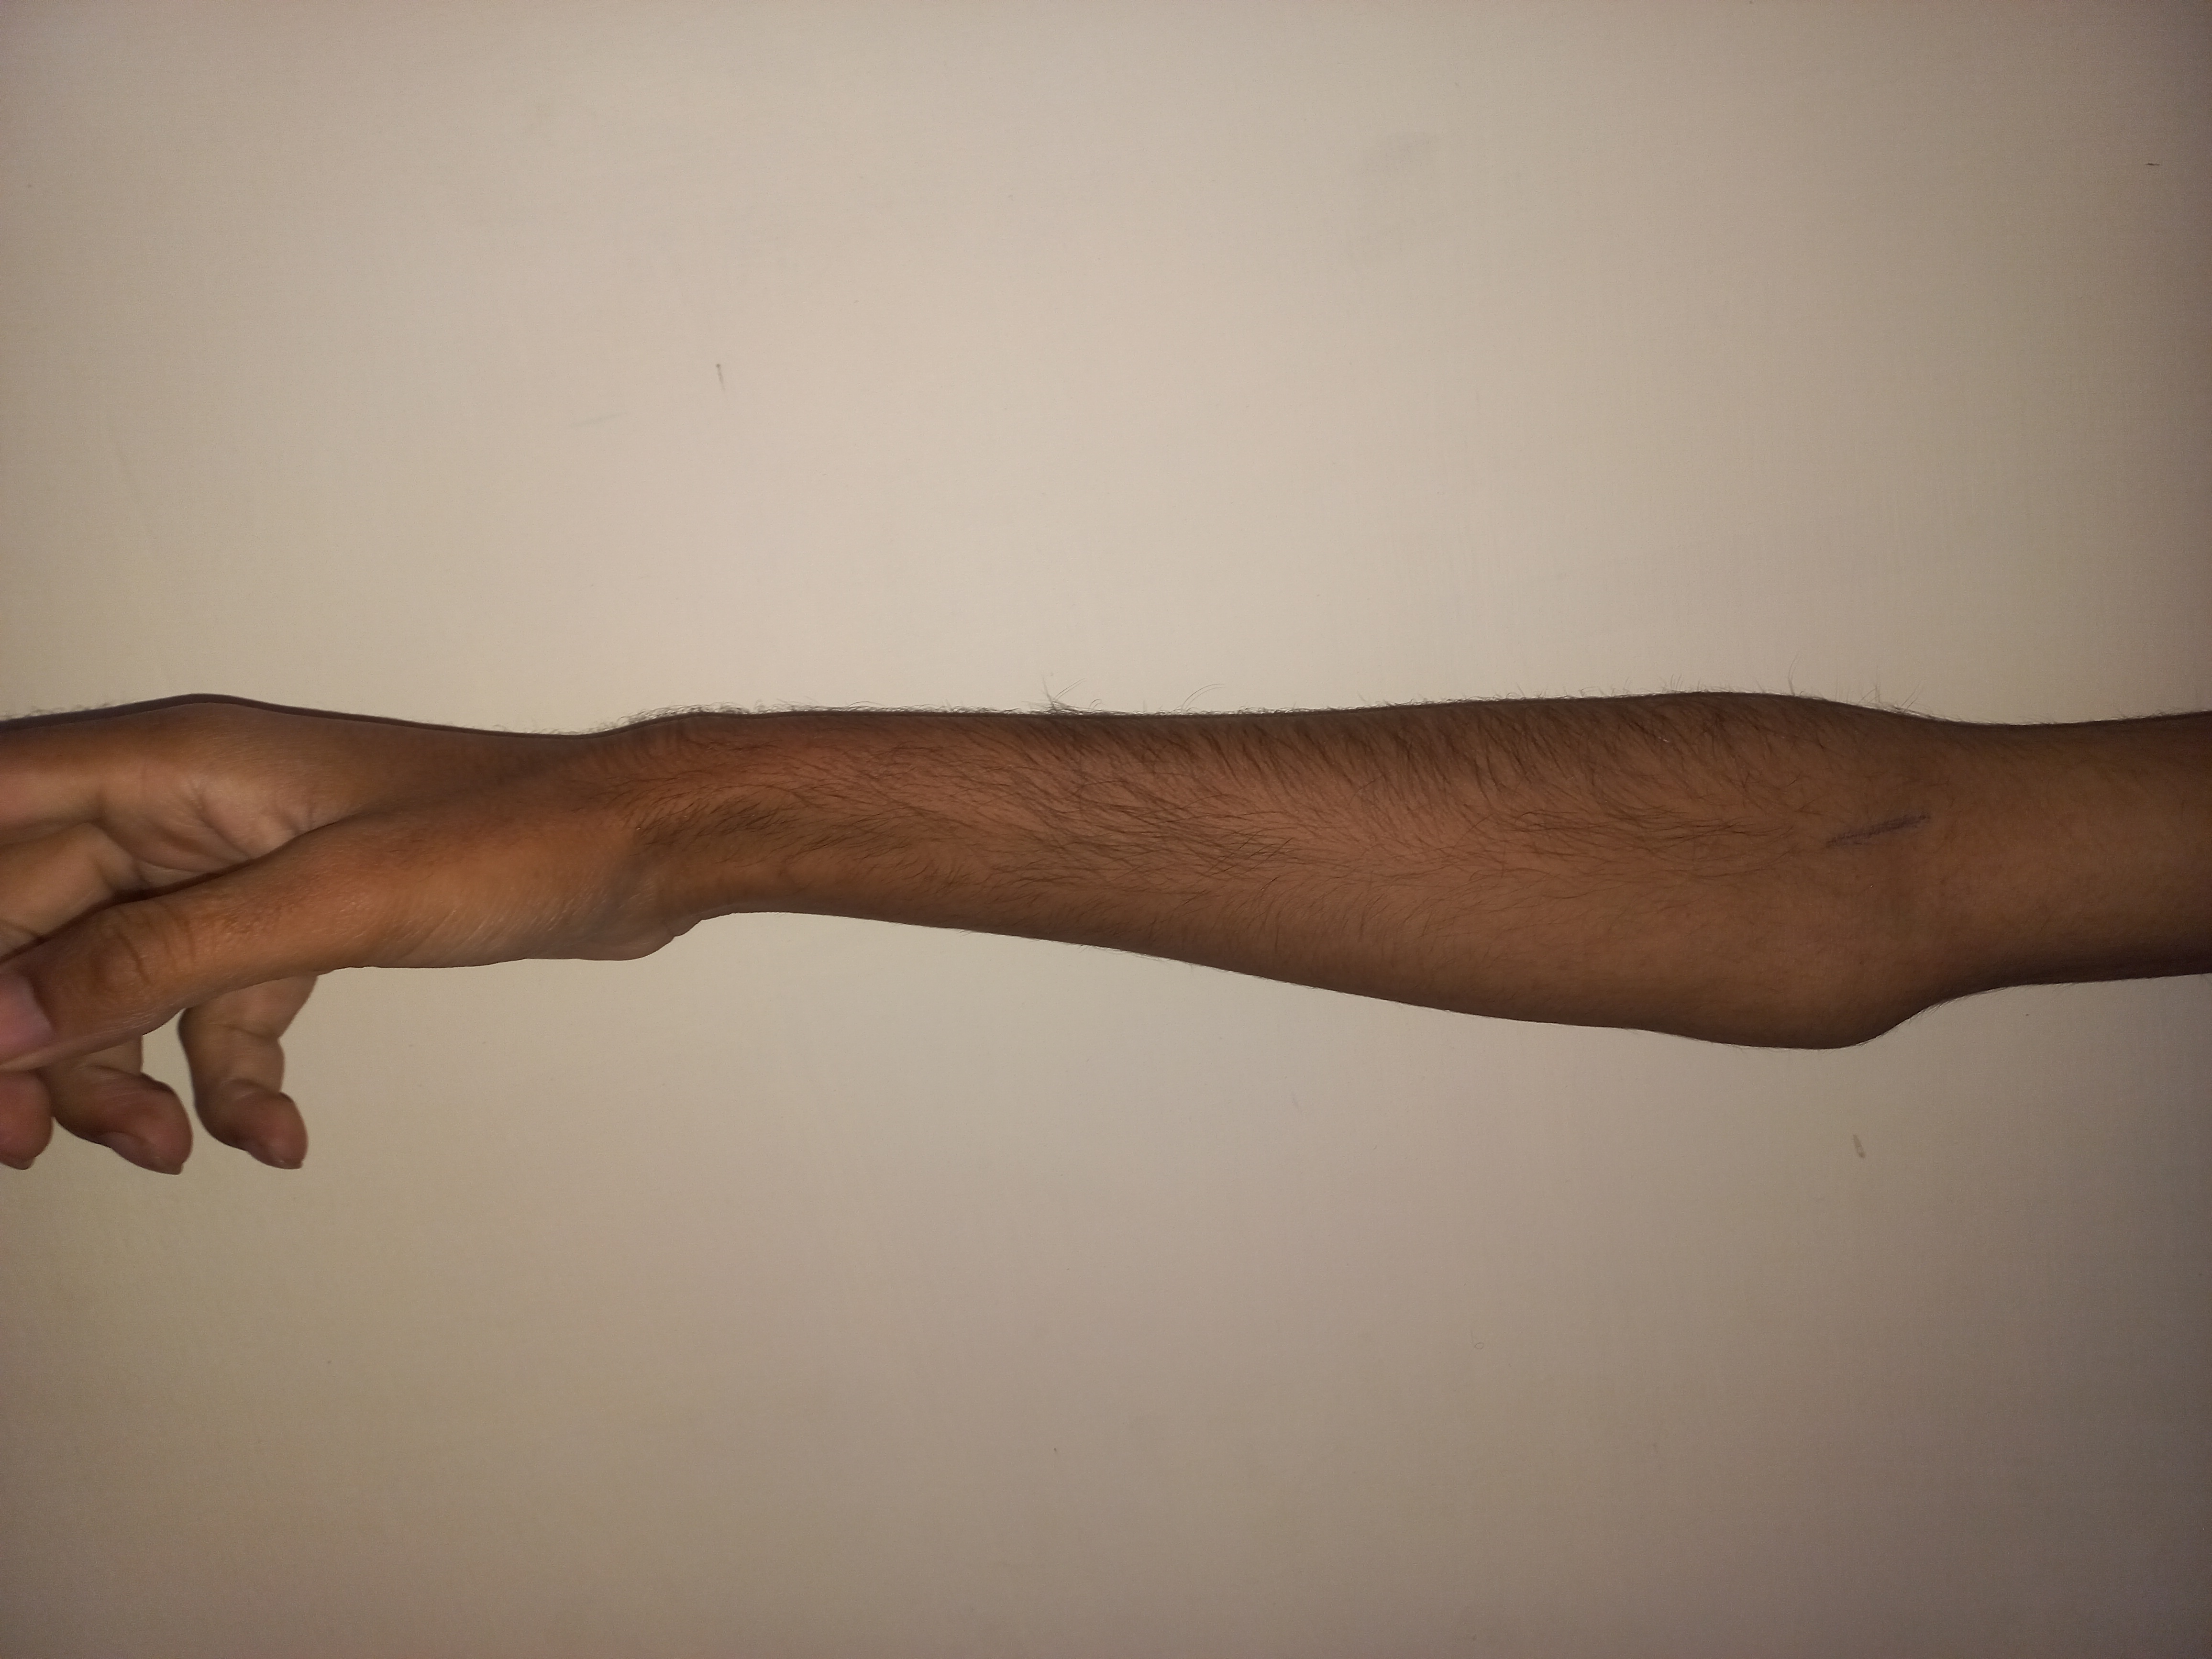vein: (1810, 793, 1944, 866)
